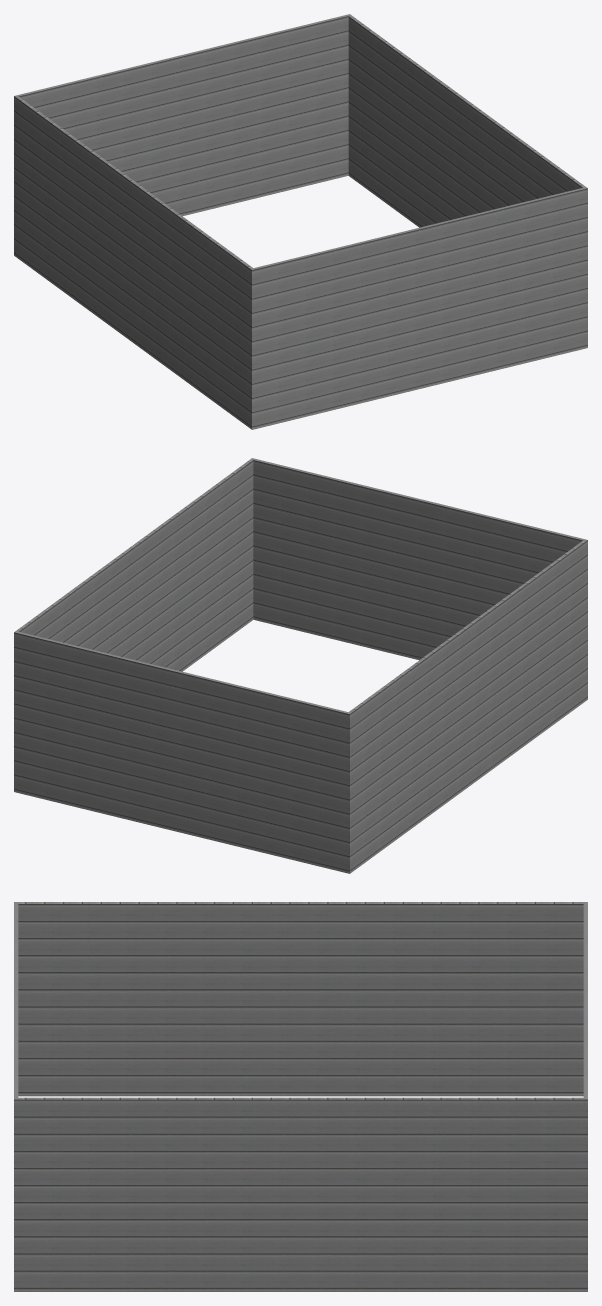
The model's file is exteriorFf.glb.
3 views of the same model, one above another, from view 1: azimuth 30°, elevation 25°; view 2: azimuth 150°, elevation 25°; view 3: azimuth 270°, elevation 25° (orthographic). The views are drawn at different scales.
Visible parts, largest first — view 1: exteriorwall; view 2: exteriorwall; view 3: exteriorwall.
Part boxes in pixels (box(x1,y1,x2,y2)): exteriorwall: box(14, 14, 587, 429); exteriorwall: box(14, 458, 587, 873); exteriorwall: box(14, 902, 587, 1291).
Bounding box in the file's own units: 6.12 × 2.78 × 7.52.
1 material, 1 textured.
